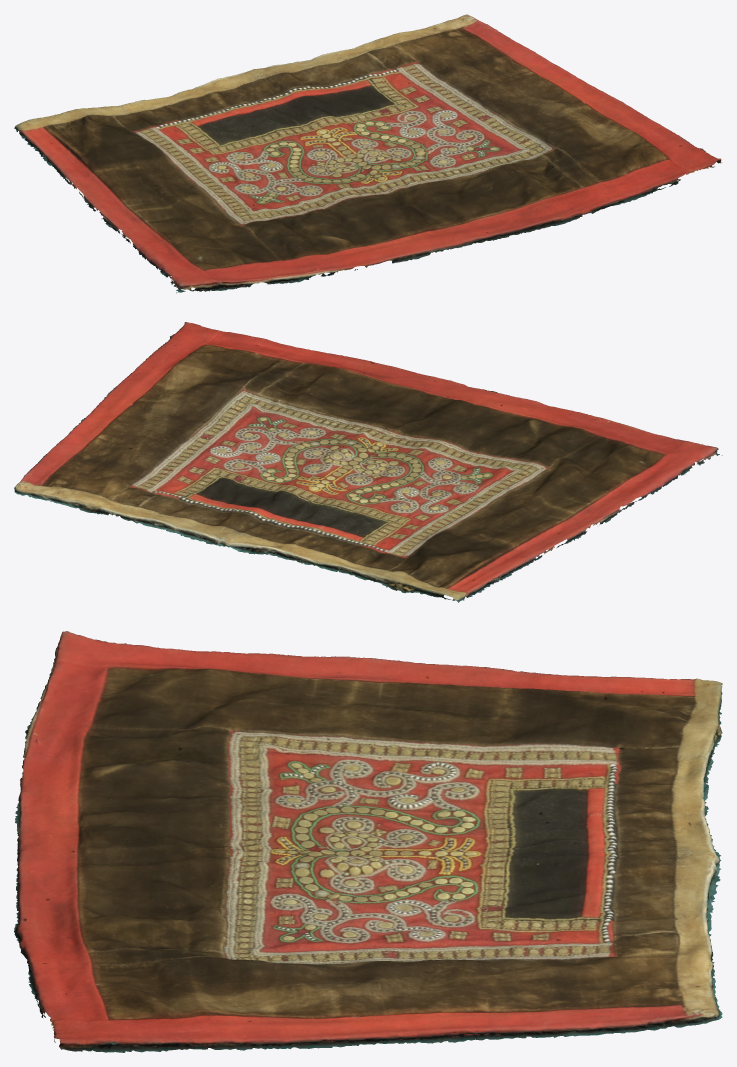
The model's file is kychym_m.FBX.
3 views of the same model, one above another, from view 1: azimuth 30°, elevation 25°; view 2: azimuth 150°, elevation 25°; view 3: azimuth 270°, elevation 25° (orthographic). The views are drawn at different scales.
Visible parts, largest first — view 1: default; view 2: default; view 3: default.
Boxes of the visible parts, x1,y1,x2,y2 form: default: (14, 14, 721, 293); default: (14, 322, 722, 602); default: (14, 631, 722, 1052).
Bounding box in the file's own units: 715 × 21.63 × 523.
